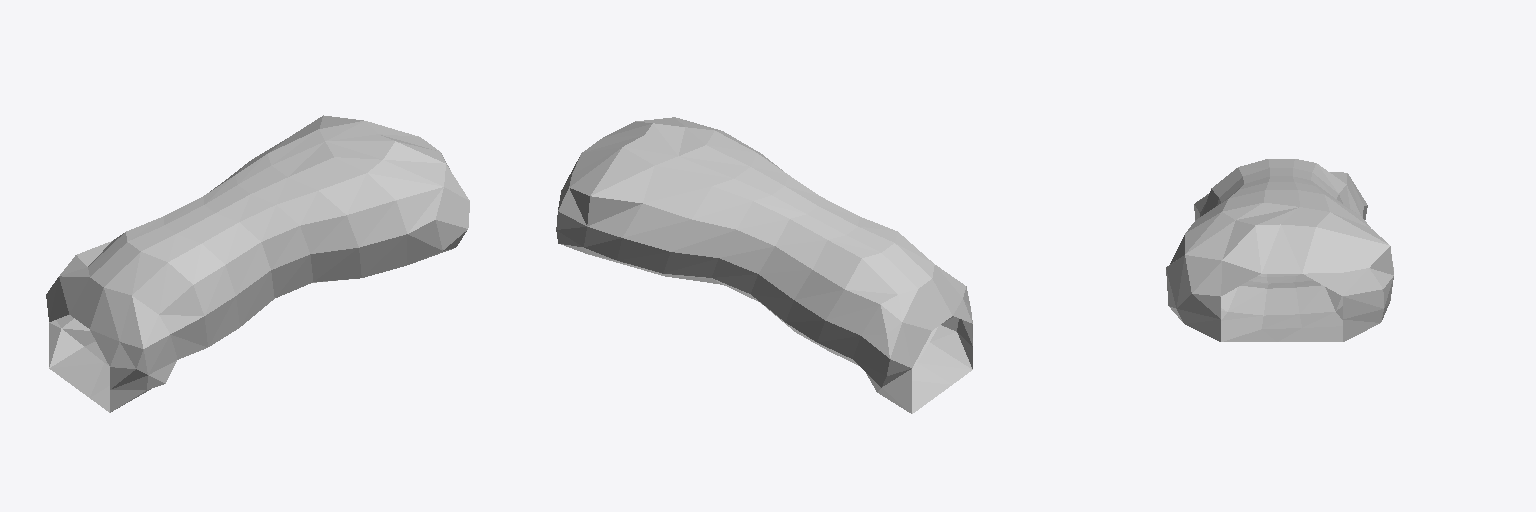
File: Mesh_CavePack_Slope_Long_lod0.obj
The picture shows the model from 3 angles: view 1: azimuth 30°, elevation 25°; view 2: azimuth 150°, elevation 25°; view 3: azimuth 270°, elevation 25°; orthographic projection.
Parts seen in each view (by area): view 1: Plane.003; view 2: Plane.003; view 3: Plane.003.
Boxes of the visible parts, <box> form: Plane.003: <box>46,115,469,412</box>; Plane.003: <box>556,117,972,413</box>; Plane.003: <box>1166,159,1393,341</box>.
Bounding box in the file's own units: 32 × 16.15 × 18.01.